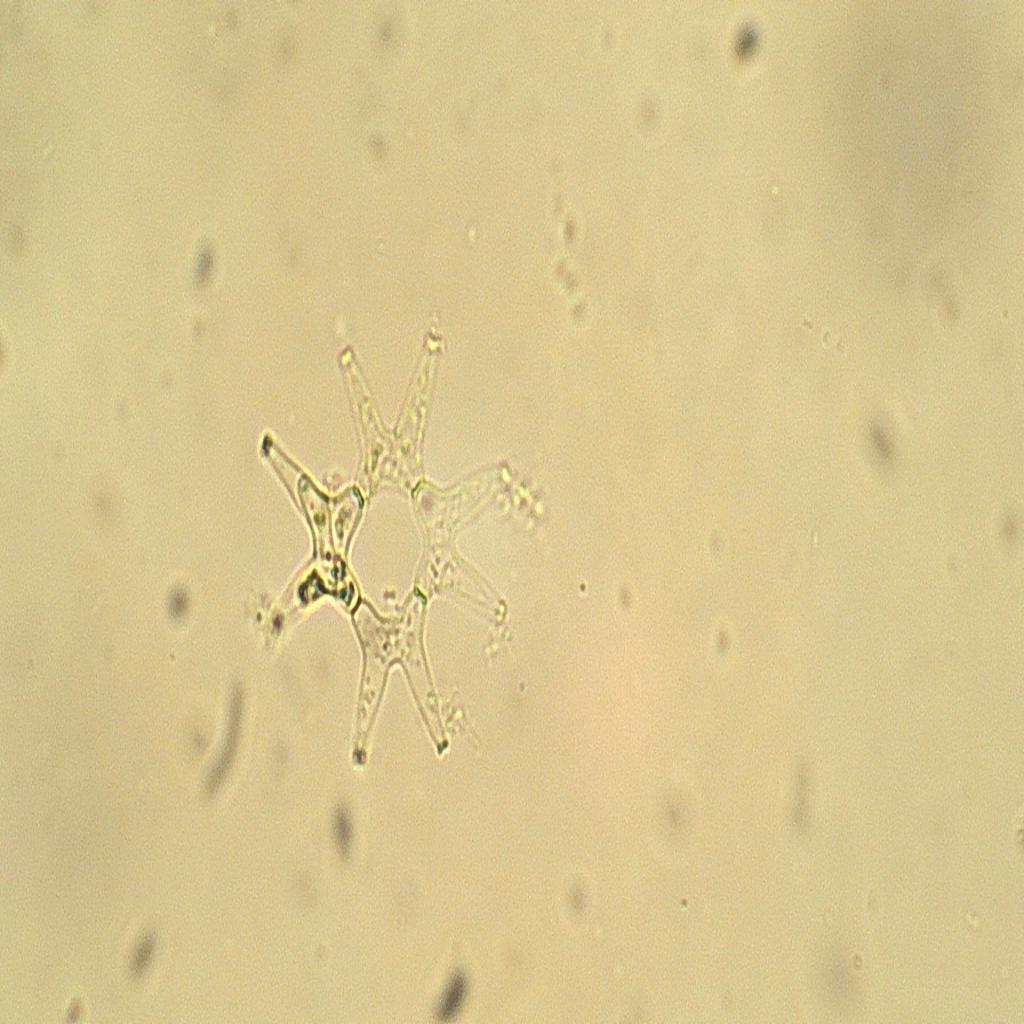Pediastrum_75TH: (241, 318, 544, 798)
